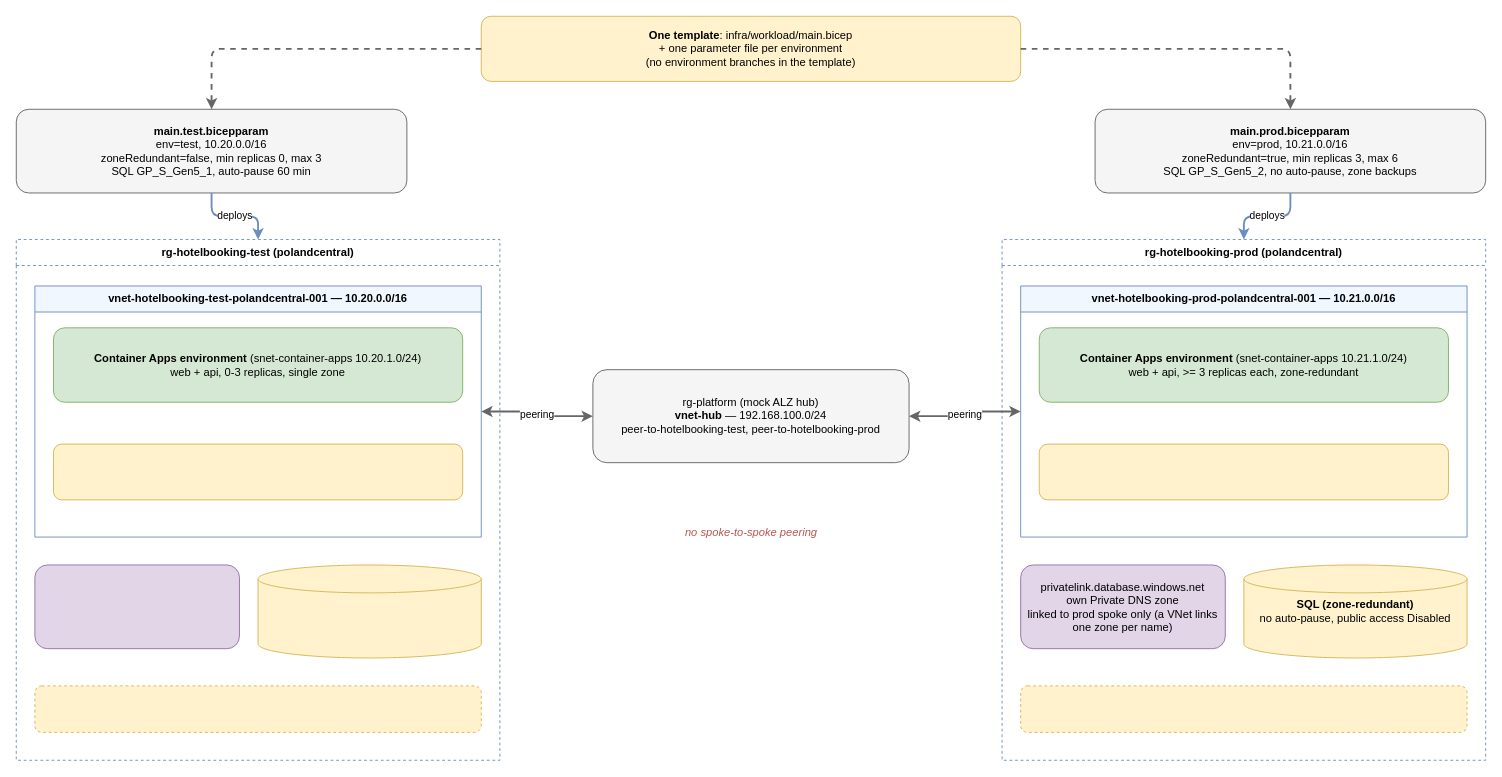
The diagram is 1502 pixels wide and 777 high, and some of its shapes have lost their labels. The centre of each missing label's shape, as x and y in pixels:
"Monitor (public): Log Analytics + App Insights 30 days, 1 GB/day" belongs at pixel 257 708.
"Monitor (public): Log Analytics + App Insights 90 days, 5 GB/day" belongs at pixel 1243 708.
"Private endpoint (snet-private-endpoints 10.20.0.0/24)" belongs at pixel 258 471.
"Private endpoint (snet-private-endpoints 10.21.0.0/24)" belongs at pixel 1243 471.
"privatelink.database.windows.net own Private DNS zone linked to test spoke + hub" belongs at pixel 136 606.
"SQL (serverless, auto-pause) public access Disabled" belongs at pixel 369 611.
